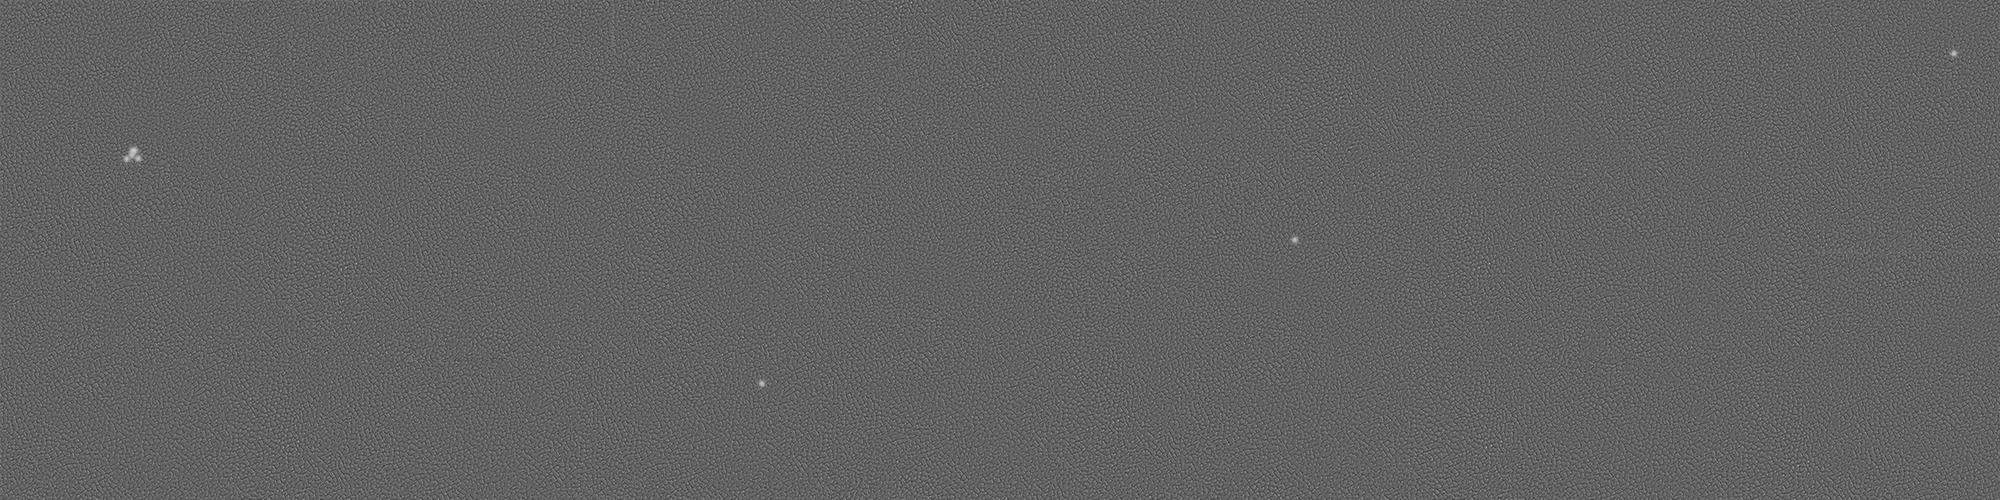Particles: (1286, 232, 1304, 247), (122, 144, 142, 156), (129, 152, 145, 165), (755, 378, 768, 392), (1946, 47, 1962, 59), (119, 153, 131, 163)
